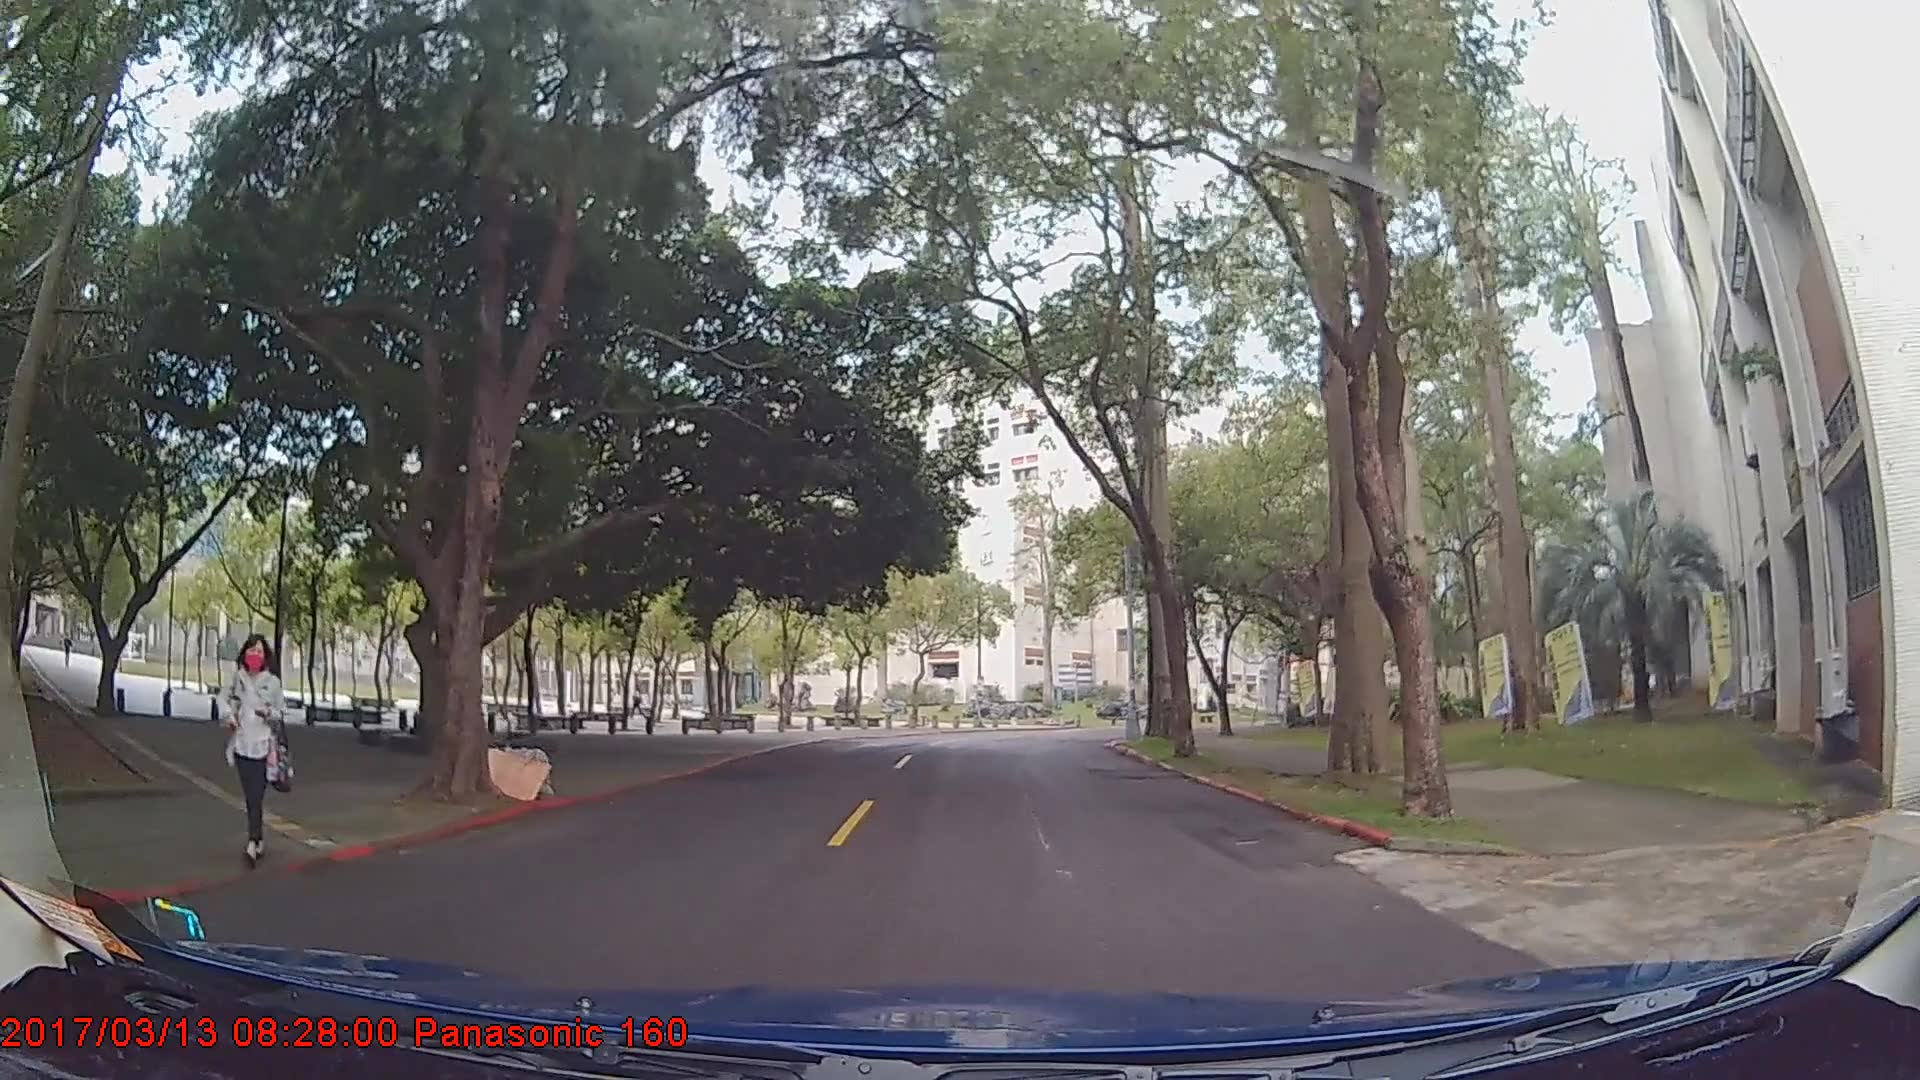pedestrian: (219, 632, 301, 868)
